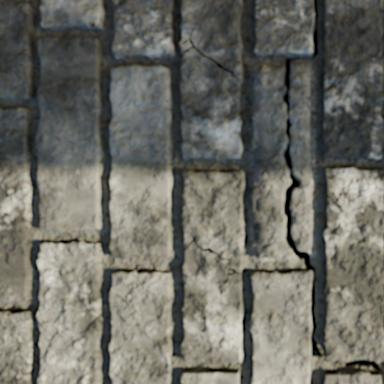brick: (36, 37, 103, 231), (109, 65, 172, 257), (182, 169, 244, 364), (324, 168, 383, 360), (180, 0, 243, 159), (322, 0, 383, 158), (37, 242, 102, 383), (110, 271, 172, 383), (251, 270, 311, 383), (0, 108, 32, 300), (113, 0, 174, 57), (0, 1, 34, 100), (254, 0, 313, 55), (0, 311, 33, 383), (40, 0, 104, 29), (181, 369, 239, 383), (324, 369, 379, 383), (111, 271, 136, 297), (181, 42, 190, 51)
broken_brick: (251, 65, 292, 259), (288, 63, 313, 252)
crack: (281, 0, 383, 383), (184, 231, 239, 285), (180, 27, 234, 76), (110, 271, 150, 309), (326, 194, 362, 225), (325, 170, 345, 180), (145, 249, 154, 259), (88, 21, 100, 27), (334, 0, 345, 2), (65, 244, 68, 251), (254, 226, 256, 235)
